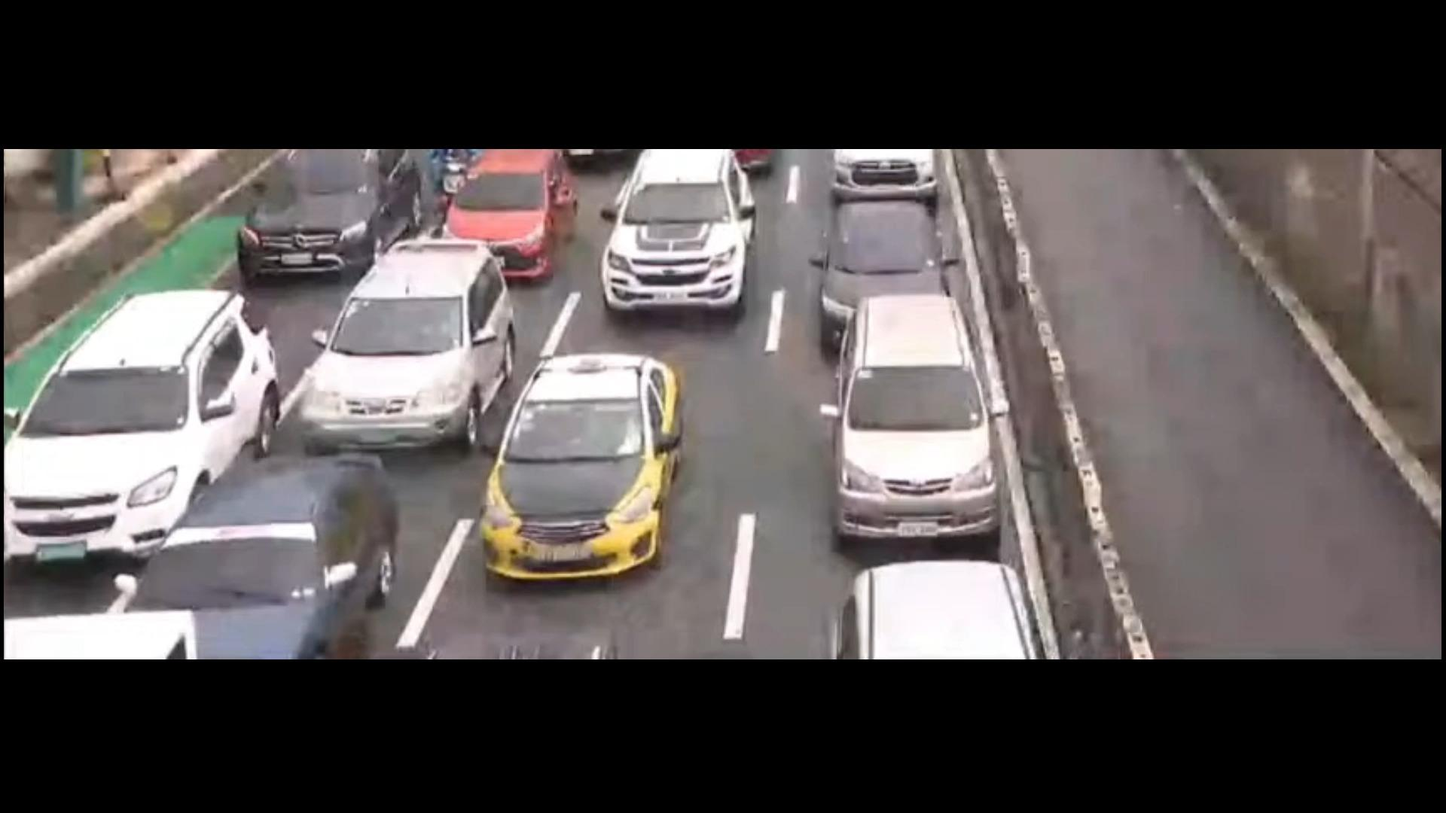SUV: (0, 269, 303, 560), (289, 227, 516, 450), (584, 157, 772, 334), (238, 142, 443, 283)
Sedan: (132, 431, 428, 666), (467, 333, 693, 591), (801, 194, 966, 332), (437, 142, 578, 286)
Van: (824, 277, 1008, 572)
